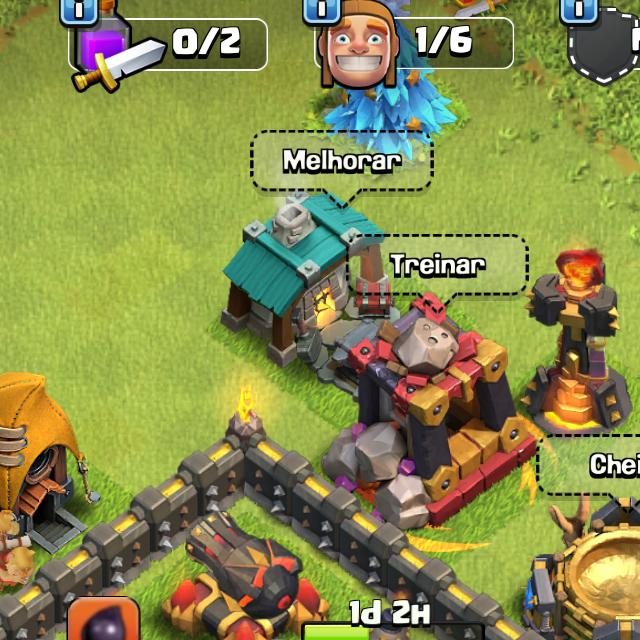FullElixirNegro: (67, 596, 141, 640)
